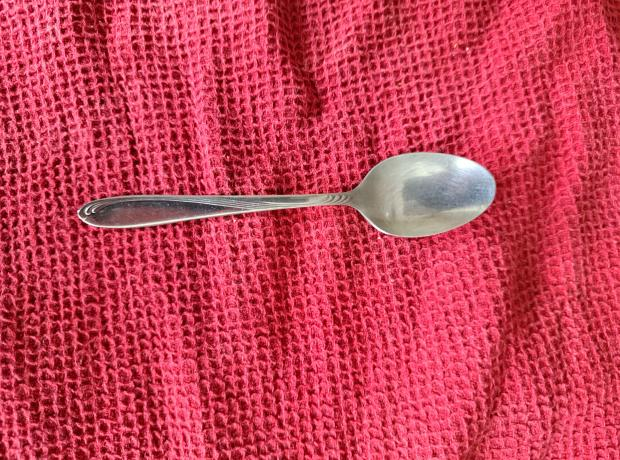metal: (68, 147, 498, 247)
